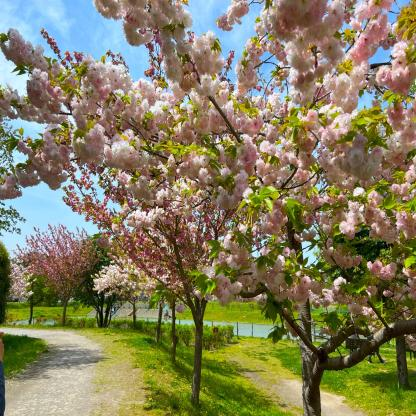YaeSakura: (0, 0, 416, 373), (14, 216, 98, 306), (372, 225, 416, 389), (148, 204, 204, 310), (89, 252, 151, 306), (135, 240, 170, 315), (7, 257, 35, 305)
